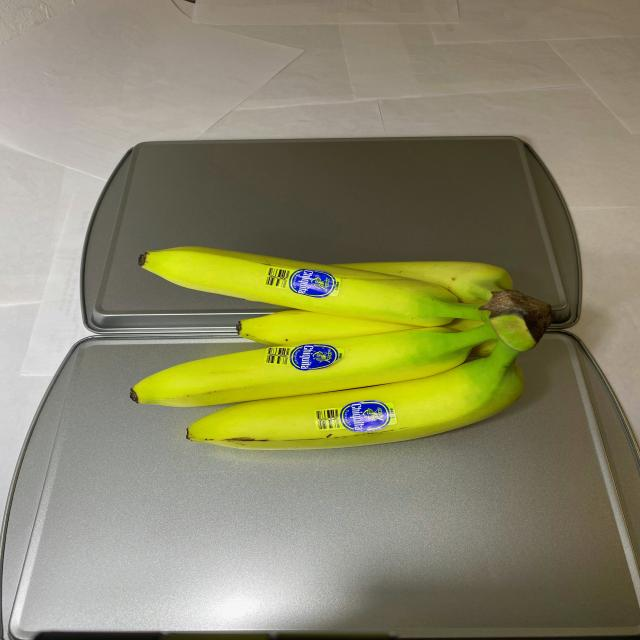banana: (124, 236, 552, 453)
